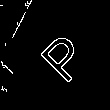P_NW: (27, 21, 89, 83)
